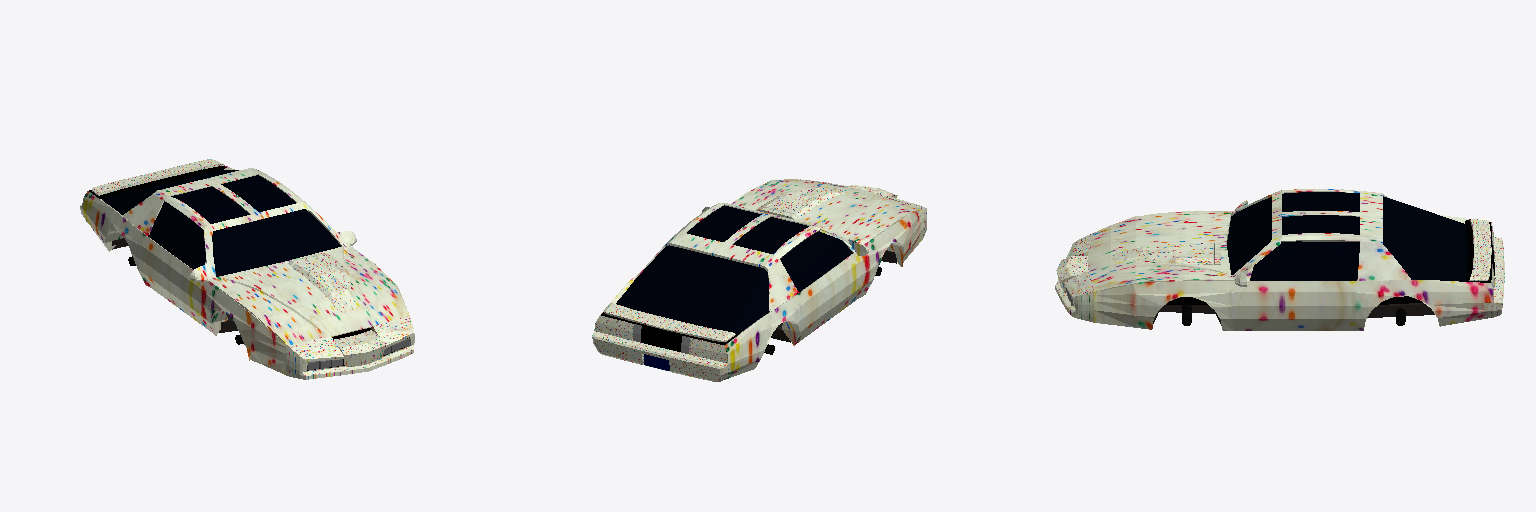
The picture shows the model from 3 angles: view 1: azimuth 30°, elevation 25°; view 2: azimuth 150°, elevation 25°; view 3: azimuth 270°, elevation 25°; orthographic projection.
Visible parts, largest first — view 1: Box01, Box25, Box12, Box02, Box11, Box16, Box06; view 2: Box01, Box25, Box13, Box16, Box02, Box21, Box28; view 3: Box01, Box25, Box02, Box12, Box16, Box38, Box13, Box11.
Boxes of the visible parts, x1,y1,x2,y2 form: Box01: [82, 165, 408, 375]; Box25: [102, 170, 340, 276]; Box12: [286, 315, 414, 379]; Box02: [288, 253, 358, 313]; Box11: [334, 330, 385, 366]; Box16: [92, 159, 223, 195]; Box06: [89, 166, 226, 198]; Box01: [595, 179, 924, 379]; Box25: [616, 205, 852, 333]; Box13: [592, 331, 730, 381]; Box16: [604, 303, 735, 341]; Box02: [756, 187, 846, 219]; Box21: [594, 315, 727, 363]; Box28: [641, 326, 681, 351]; Box01: [1087, 189, 1493, 330]; Box25: [1227, 192, 1467, 281]; Box02: [1111, 243, 1220, 264]; Box12: [1055, 233, 1093, 322]; Box16: [1469, 219, 1491, 280]; Box38: [1153, 303, 1434, 325]; Box13: [1484, 237, 1504, 318]; Box11: [1056, 256, 1088, 292].
Bounding box in the file's own units: 15.27 × 7.68 × 35.89.
10 materials, 1 textured.